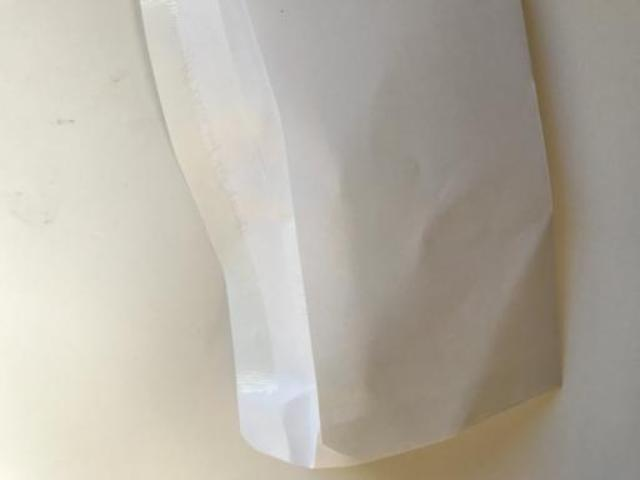cardboard paper: (140, 0, 558, 465)
